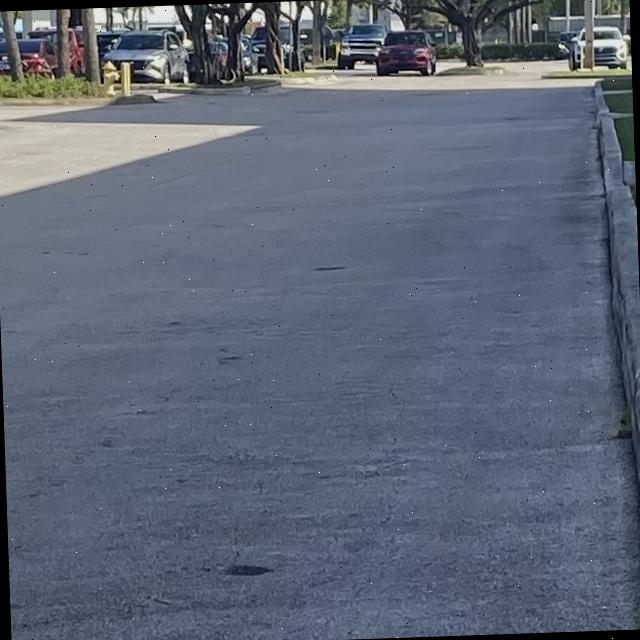curb: (595, 83, 640, 524), (0, 96, 156, 105), (158, 86, 251, 95), (279, 74, 337, 84), (249, 80, 280, 93)
